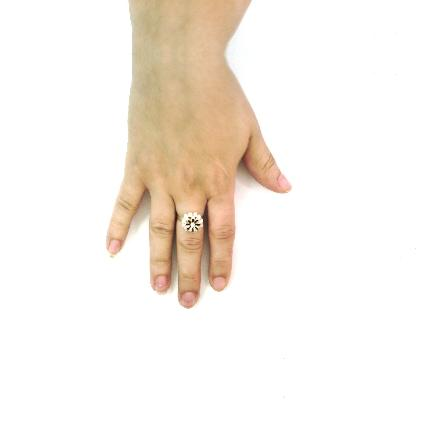Nail: (179, 292, 197, 309), (278, 172, 292, 192), (108, 239, 121, 258), (155, 276, 169, 293), (211, 277, 226, 291)
